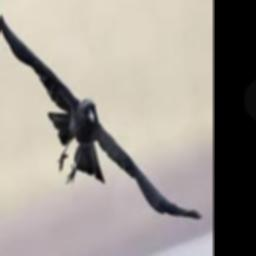Crow: (0, 0, 202, 220)
